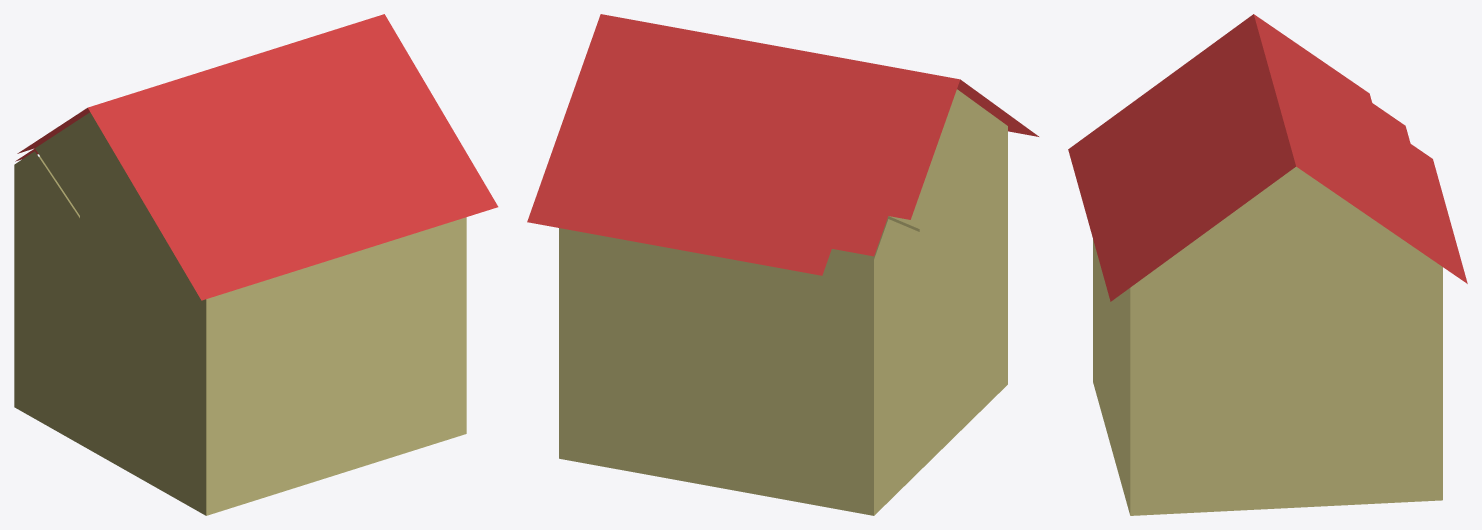
3 views of the same model, side by side, from view 1: azimuth 30°, elevation 25°; view 2: azimuth 150°, elevation 25°; view 3: azimuth 270°, elevation 25° (orthographic). The views are drawn at different scales.
Size of the model in its own units: 13.23 by 13.34 by 12.91.
